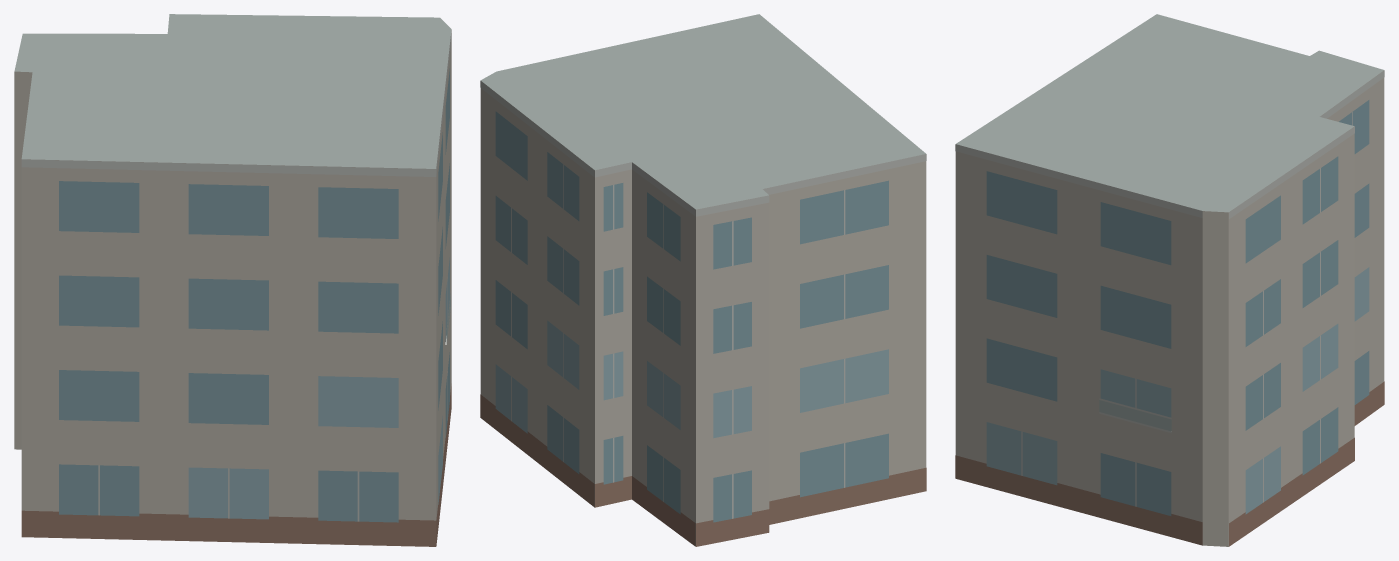
The model's file is survey-upis-32943835.glb.
3 renders of one model, left to right at view 1: azimuth 30°, elevation 25°; view 2: azimuth 150°, elevation 25°; view 3: azimuth 270°, elevation 25°, orthographic. The views are drawn at different scales.
Visible parts, largest first — view 1: survey-upis-32943835.tmp; view 2: survey-upis-32943835.tmp; view 3: survey-upis-32943835.tmp.
Part boxes in pixels (left/top/right/bottom): survey-upis-32943835.tmp: left=14, top=14, right=451, bottom=546; survey-upis-32943835.tmp: left=480, top=14, right=926, bottom=546; survey-upis-32943835.tmp: left=955, top=14, right=1384, bottom=546.
Bounding box in the file's own units: 14.49 × 11.39 × 13.25.
